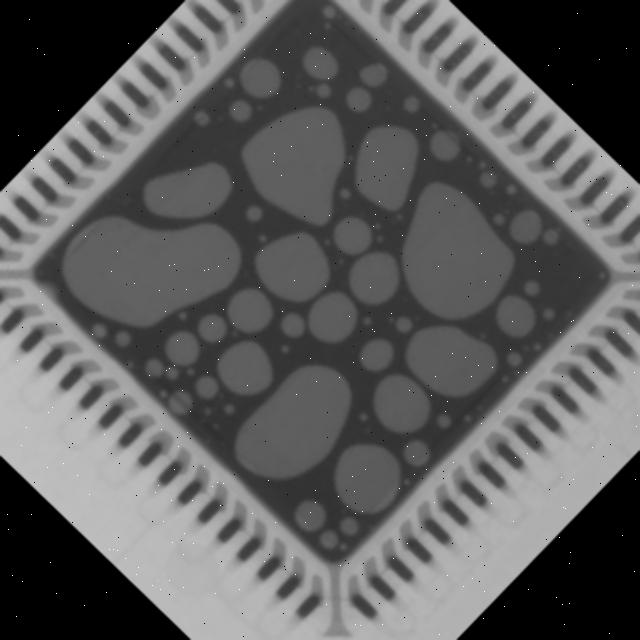chip: (20, 0, 621, 576)
void: (63, 216, 240, 327), (402, 183, 515, 319), (235, 365, 351, 478), (243, 106, 344, 224), (406, 325, 497, 397), (356, 127, 417, 209), (255, 233, 329, 300), (145, 162, 231, 217), (335, 444, 400, 512), (374, 375, 429, 432), (217, 340, 272, 394), (350, 252, 398, 305), (309, 293, 357, 340), (227, 288, 272, 332), (333, 215, 372, 254), (241, 59, 280, 97), (497, 296, 534, 336), (166, 331, 199, 365), (92, 321, 131, 349), (509, 209, 542, 242), (303, 47, 337, 79), (361, 338, 392, 370), (295, 499, 325, 531), (429, 131, 459, 160), (198, 314, 227, 342), (146, 358, 177, 380), (167, 390, 193, 415), (360, 63, 387, 86), (281, 312, 305, 337), (346, 87, 371, 111), (475, 163, 498, 188), (195, 375, 219, 398), (228, 99, 253, 121), (406, 441, 428, 465), (318, 529, 339, 550), (192, 107, 210, 126), (340, 516, 358, 534), (395, 315, 413, 333), (403, 95, 421, 113), (541, 228, 560, 245), (524, 279, 541, 296), (437, 413, 452, 429), (246, 206, 262, 221), (315, 82, 331, 97), (321, 4, 337, 19), (260, 335, 273, 348), (505, 184, 516, 196), (493, 213, 504, 224), (225, 78, 232, 87)
